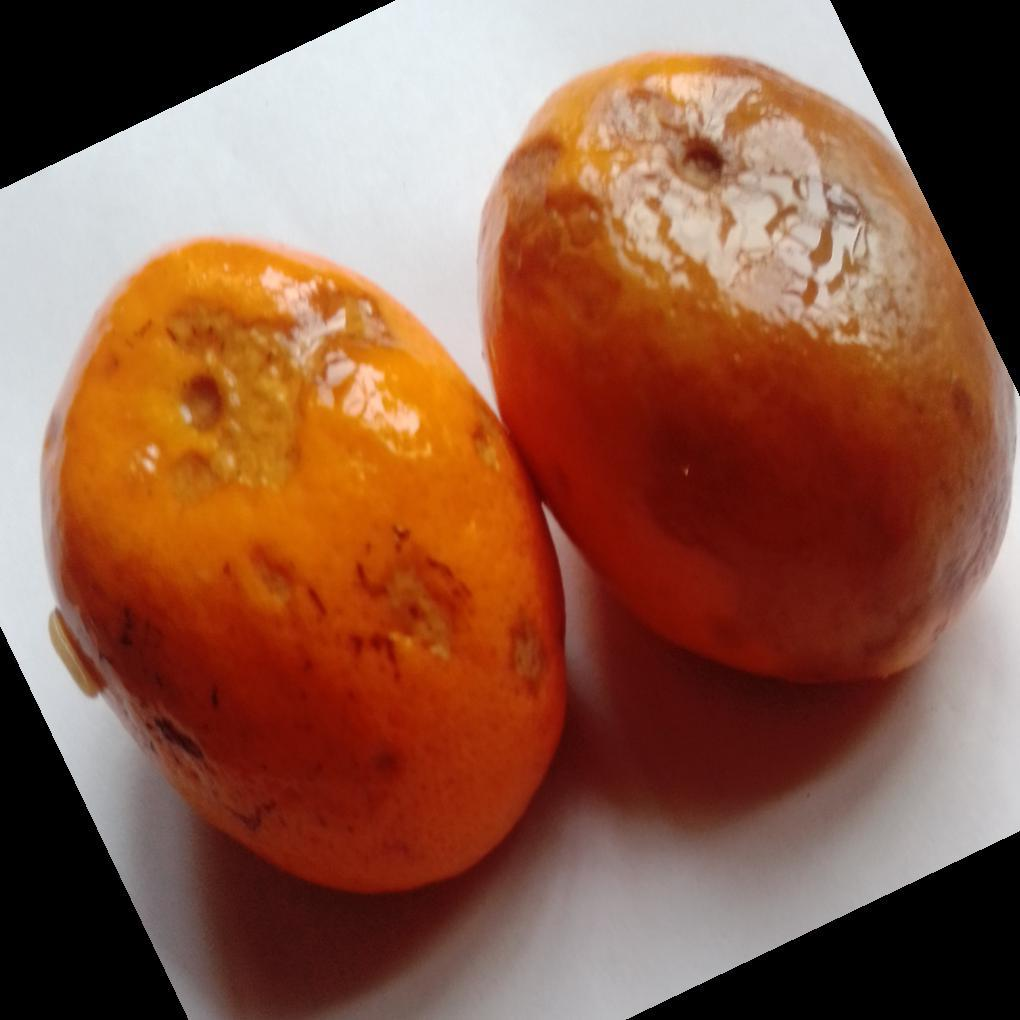FreshOrange: (39, 52, 1020, 900)
